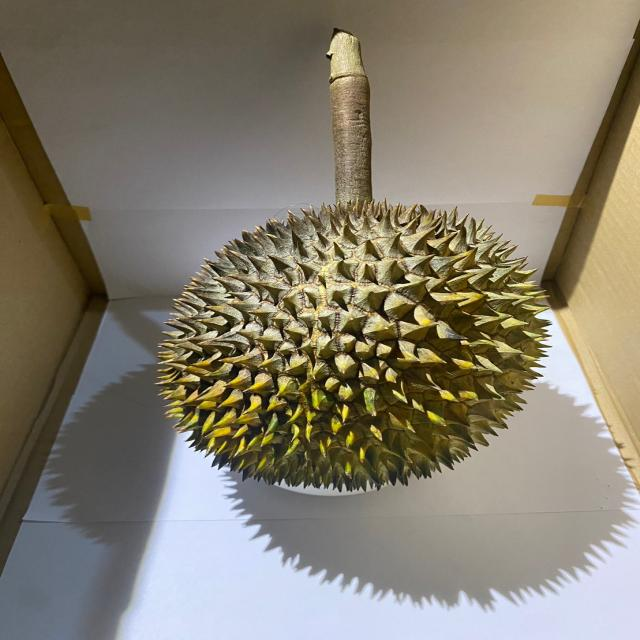immature: (155, 199, 558, 492)
